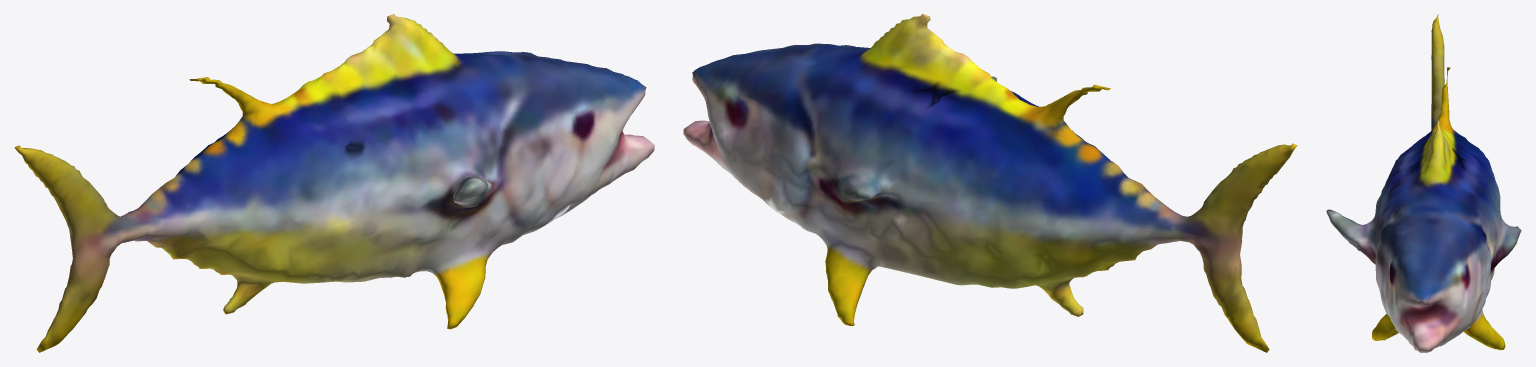
Rendered from fish.fbx.
3 views of the same model, side by side, from view 1: azimuth 30°, elevation 25°; view 2: azimuth 150°, elevation 25°; view 3: azimuth 270°, elevation 25° (orthographic). The views are drawn at different scales.
Parts seen in each view (by area): view 1: Mesh1; view 2: Mesh1; view 3: Mesh1.
Boxes of the visible parts, x1=… form: Mesh1: x1=14, y1=14, x2=654, y2=352; Mesh1: x1=683, y1=14, x2=1297, y2=352; Mesh1: x1=1326, y1=14, x2=1521, y2=352.
Size of the model in its own units: 120 by 52.94 by 43.53.
Materials: 1 (1 with a texture image).
